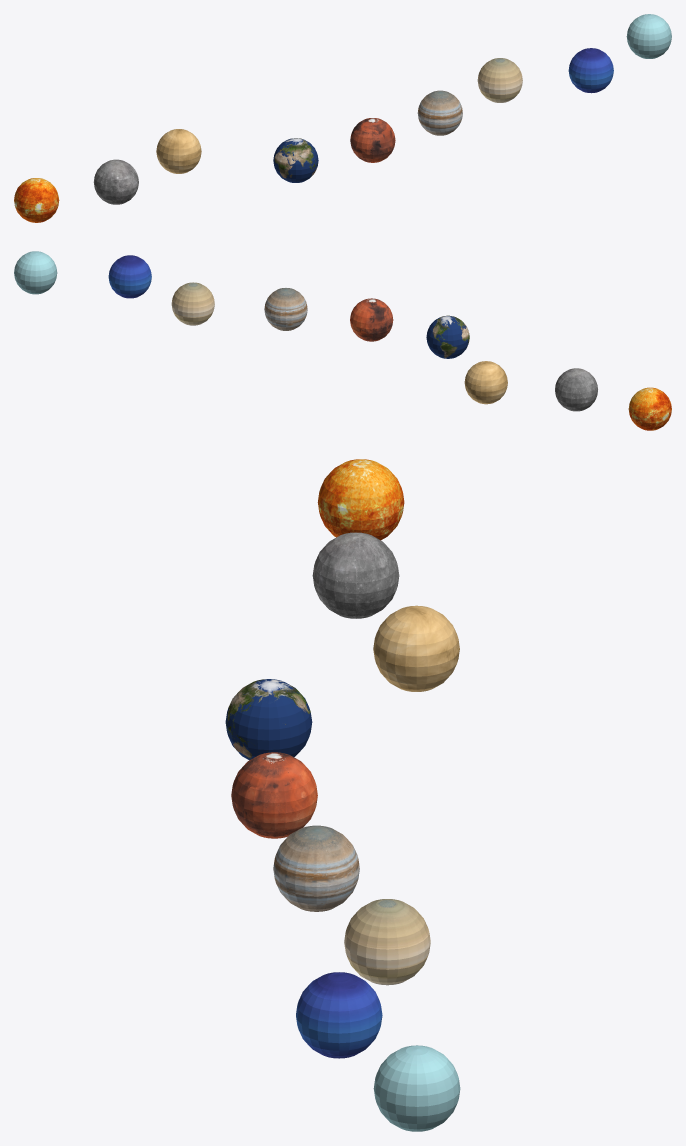
The picture shows the model from 3 angles, top to bottom: view 1: azimuth 30°, elevation 25°; view 2: azimuth 150°, elevation 25°; view 3: azimuth 270°, elevation 25°; orthographic projection. The views are drawn at different scales.
Visible parts, largest first — view 1: geo1; view 2: geo1; view 3: geo1.
Part boxes in pixels (x1=…): geo1: x1=14, y1=14, x2=671, y2=222; geo1: x1=14, y1=251, x2=671, y2=430; geo1: x1=225, y1=459, x2=460, y2=1131.
Size of the model in its own units: 17 by 1 by 2.71.
Materials: 9 (9 with a texture image).
